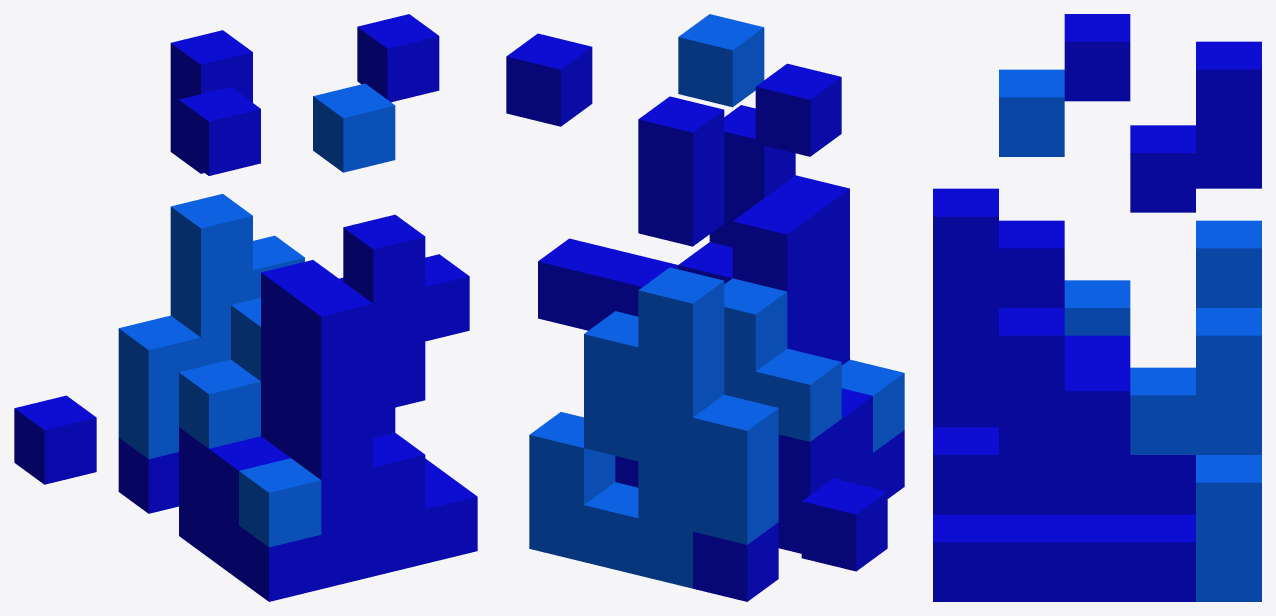
File: bluefire.obj
3 renders of one model, left to right at view 1: azimuth 30°, elevation 25°; view 2: azimuth 150°, elevation 25°; view 3: azimuth 270°, elevation 25°, orthographic. The views are drawn at different scales.
Bounding box in the file's own units: 0.7 × 0.8 × 0.5.
1 material, 1 textured.
